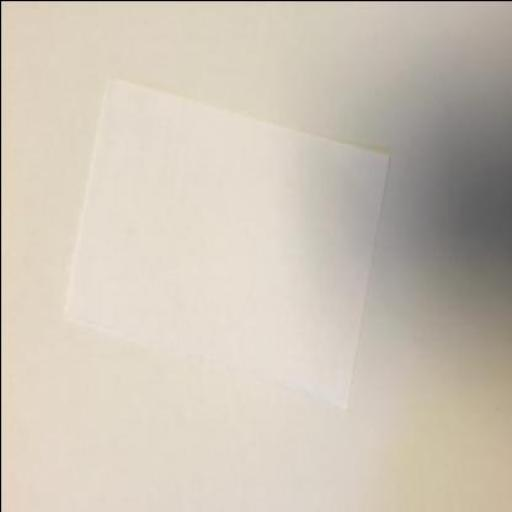paper: (63, 80, 387, 410)
